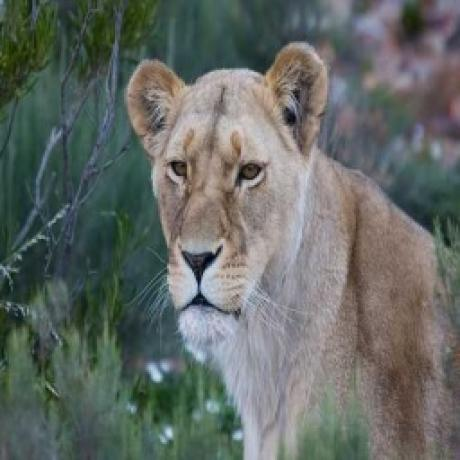Lion: (111, 37, 459, 460)
